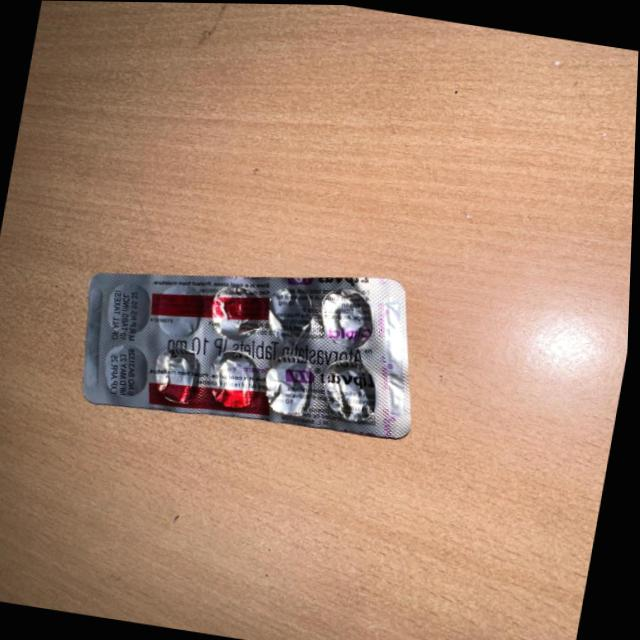medicine: (59, 253, 430, 454)
